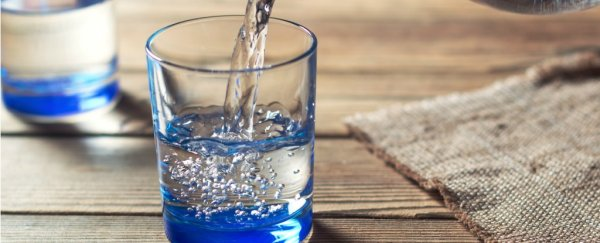glass of water: (154, 44, 312, 242)
